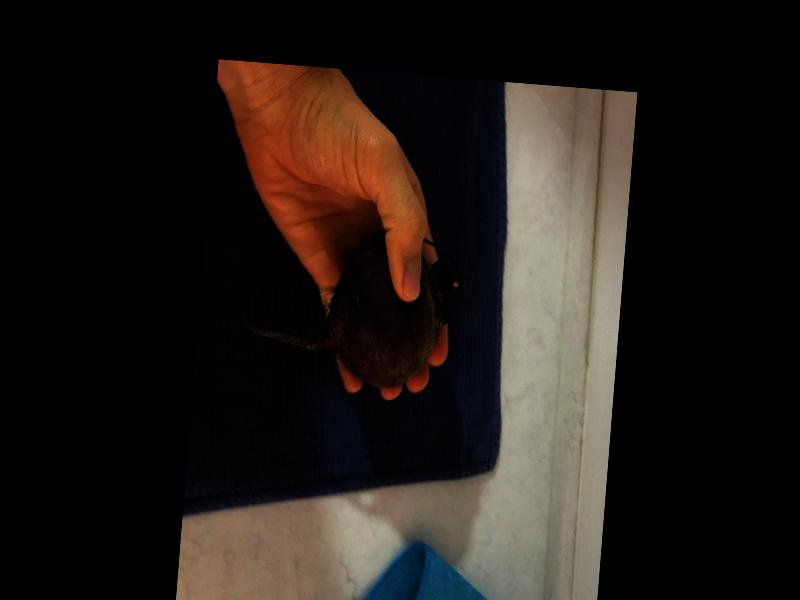Beet: (238, 223, 464, 392)
